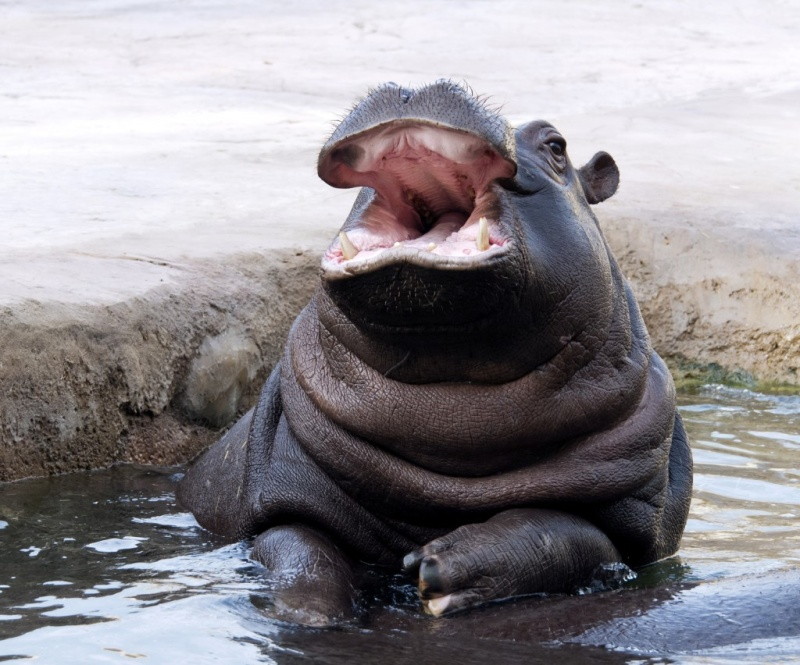hipopotamo: (192, 66, 703, 602)
